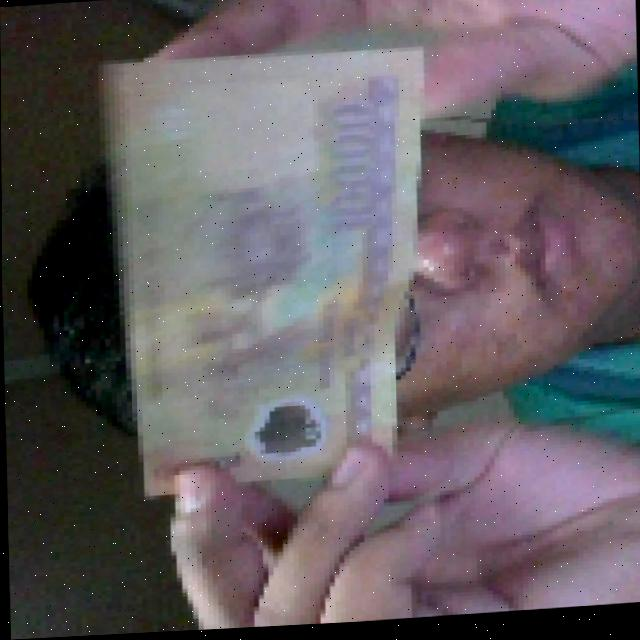10 000 VND: (90, 38, 441, 526)
